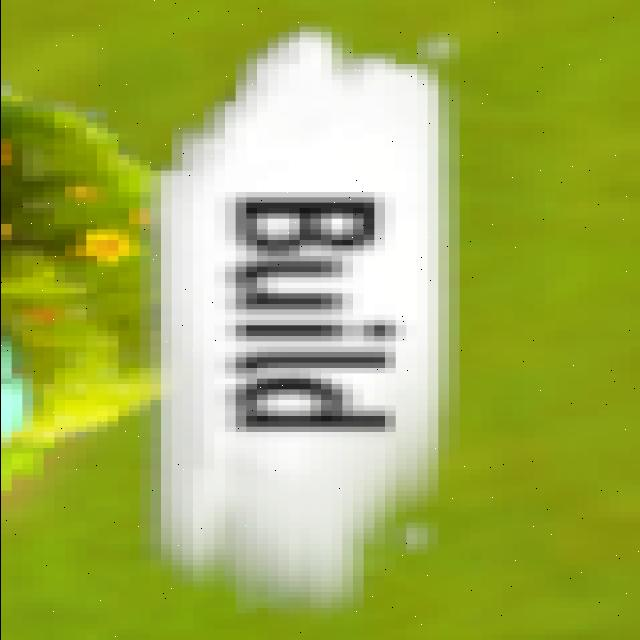build: (195, 184, 425, 442)
